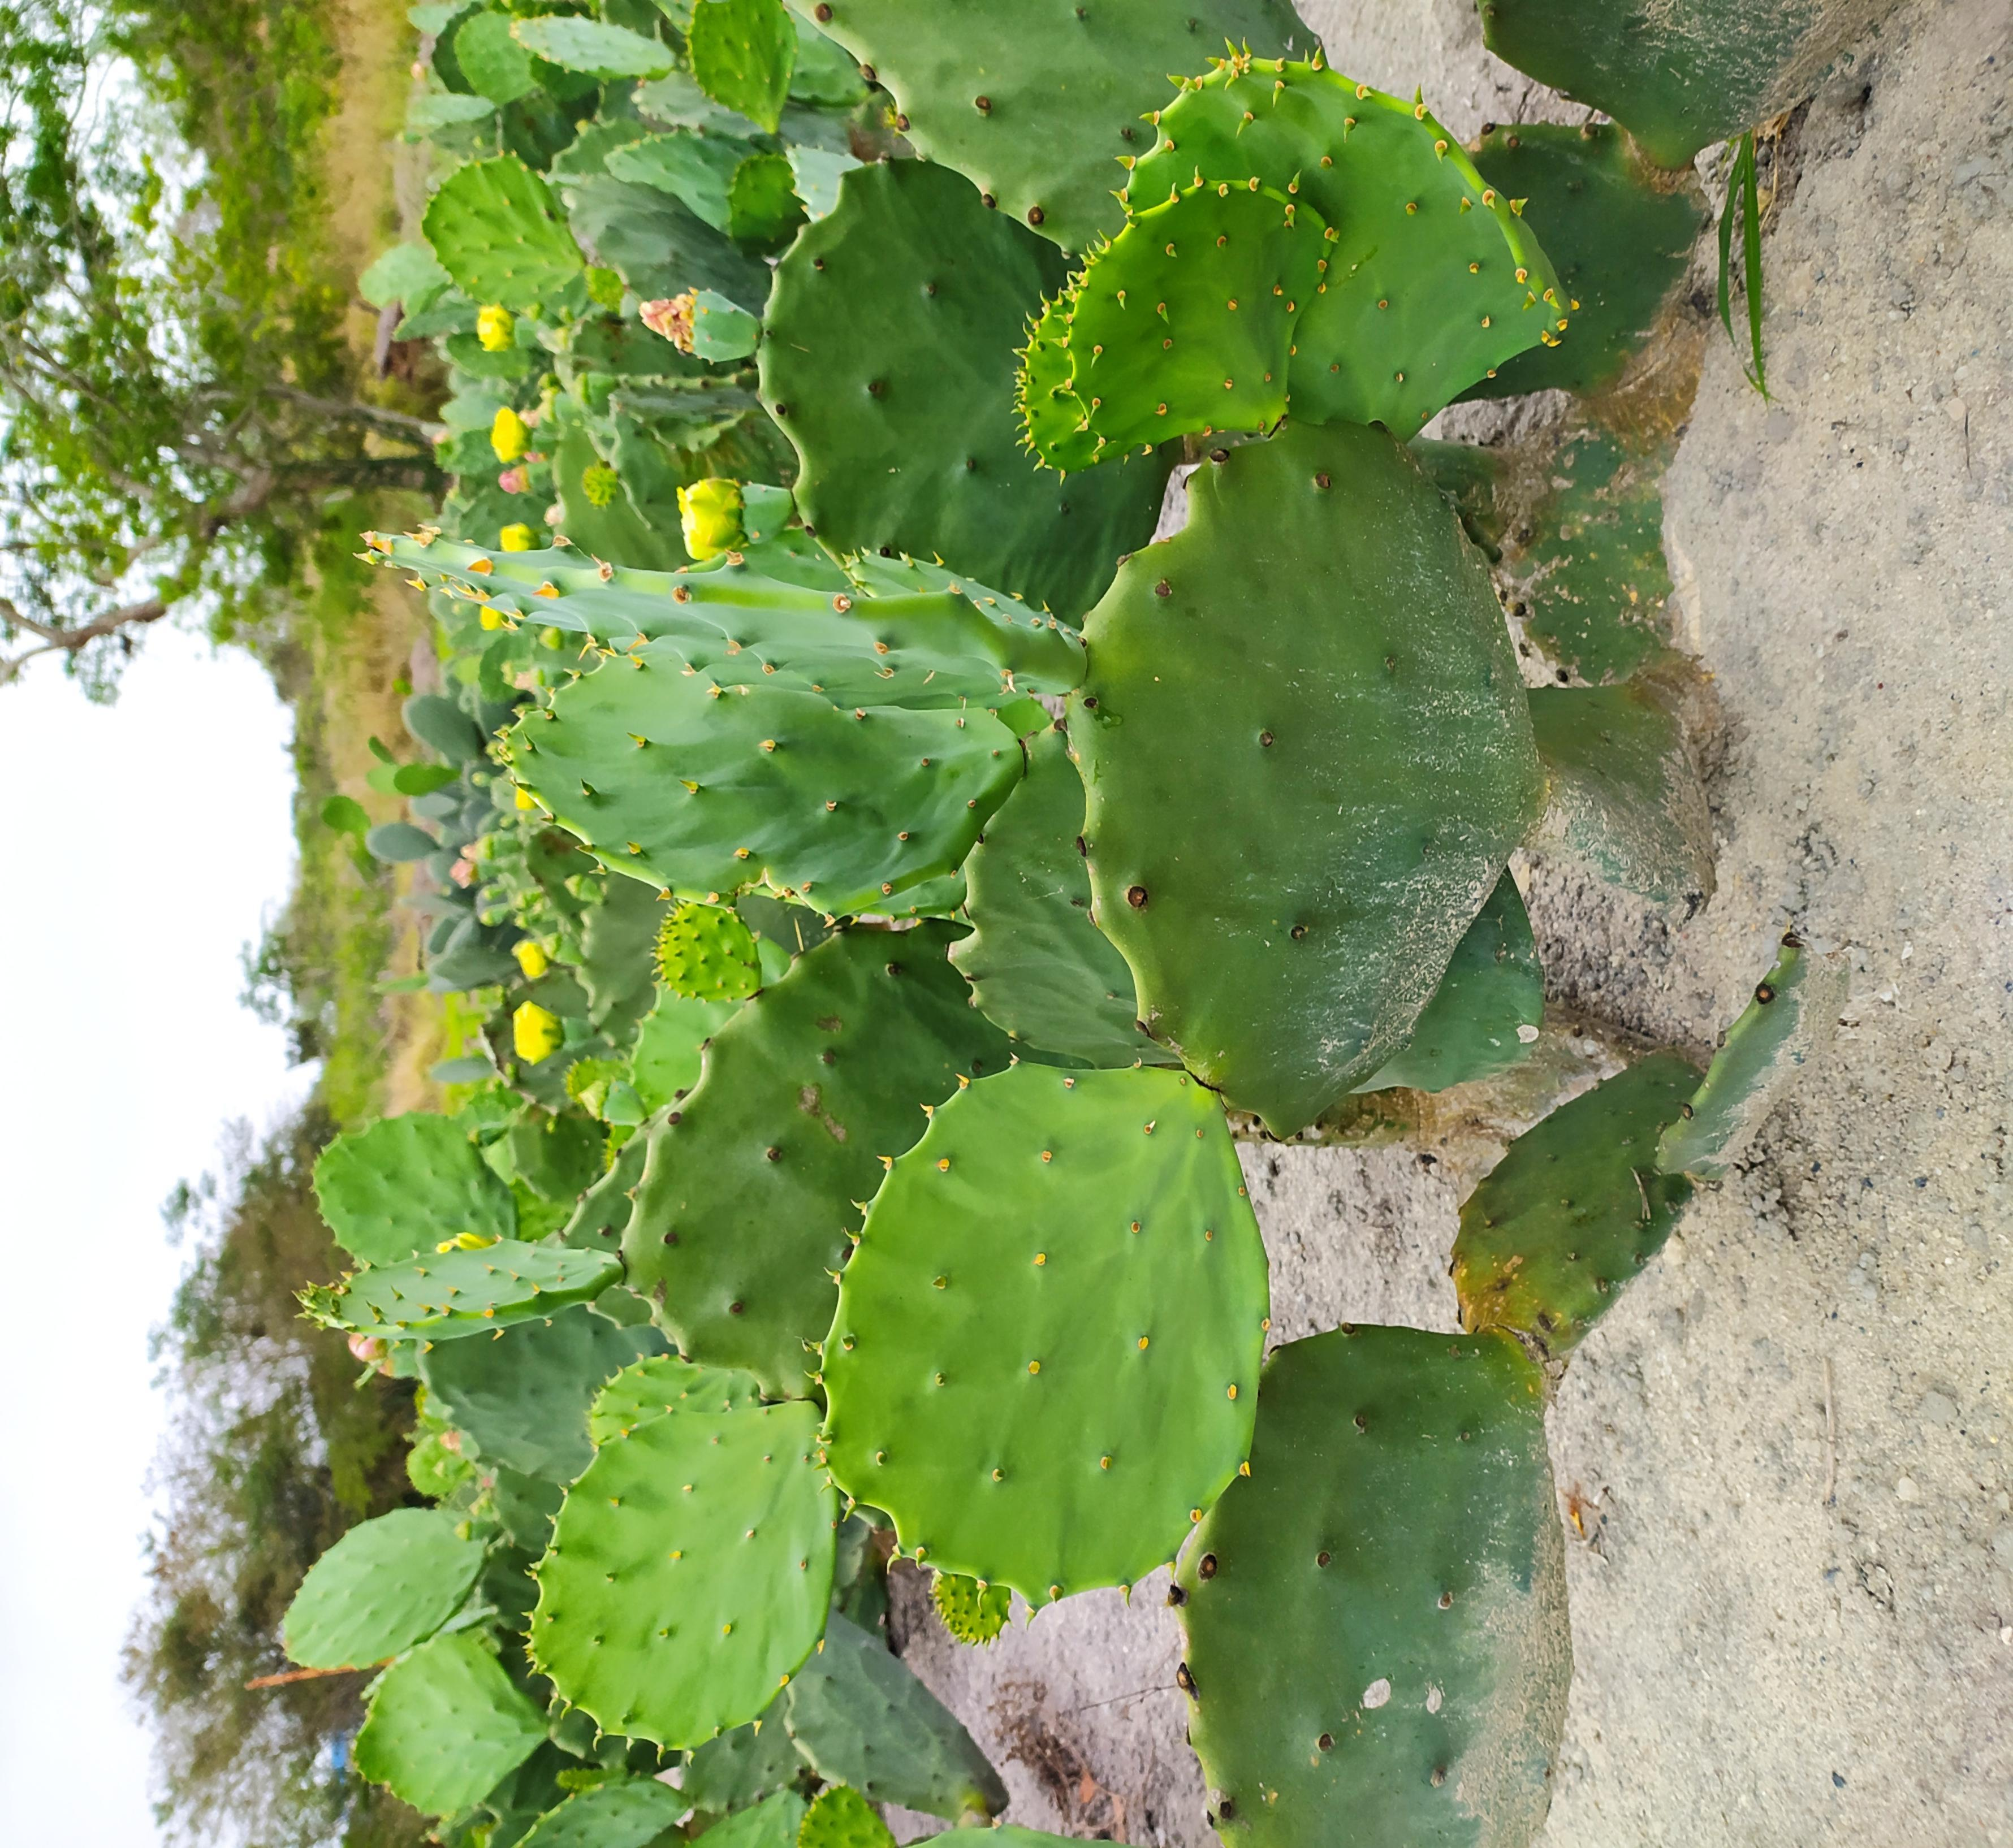impropria: (1177, 1313, 1556, 1845), (1160, 64, 1575, 435), (359, 516, 1070, 687), (1017, 205, 1290, 486), (1480, 1, 1853, 189), (292, 1239, 619, 1354), (276, 1501, 472, 1663), (349, 1633, 530, 1804)
propria: (1082, 457, 1514, 1158), (815, 1069, 1265, 1622), (519, 669, 1052, 940), (750, 168, 1064, 591), (619, 936, 912, 1362), (526, 1396, 801, 1760), (306, 1126, 519, 1275), (413, 172, 597, 322)
